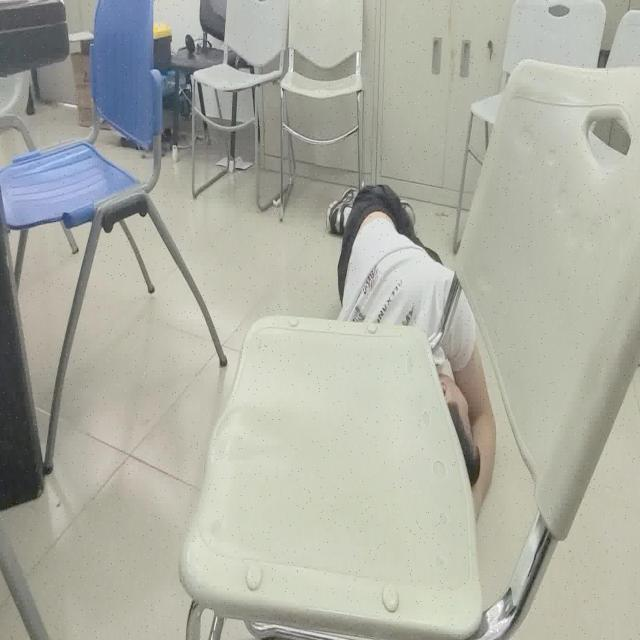fall: (326, 182, 496, 526)
